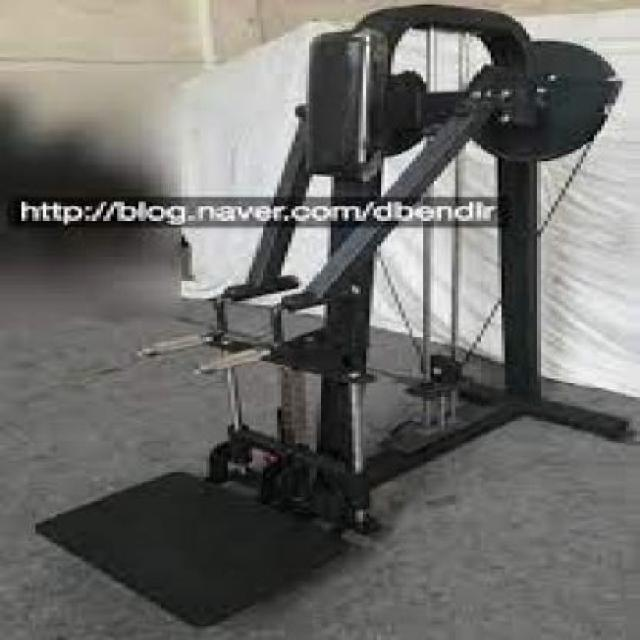lateral raises machine: (137, 6, 629, 626)
